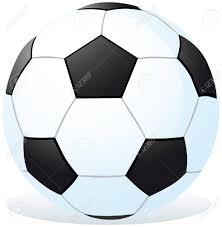ball: (1, 1, 221, 227)
